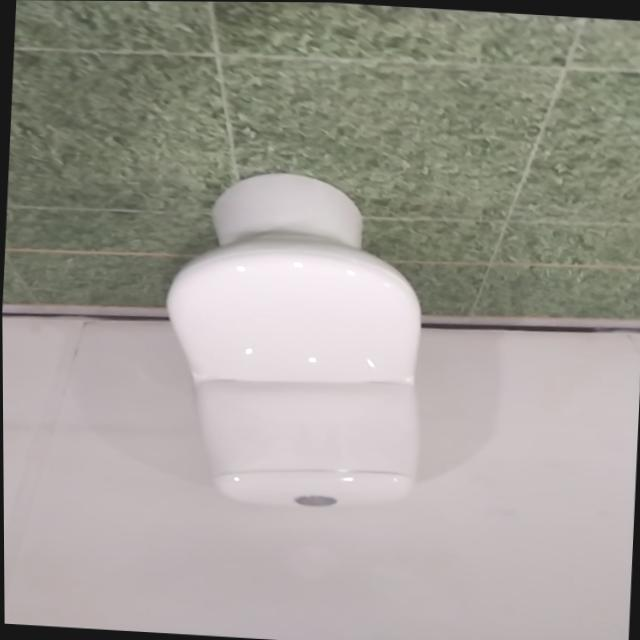toilet: (152, 166, 433, 515)
